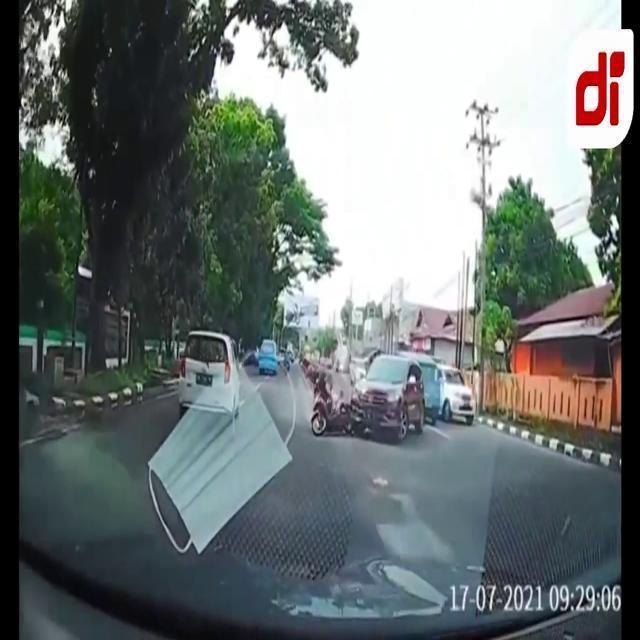accident: (312, 352, 426, 442)
non-accident: (177, 331, 279, 434)
